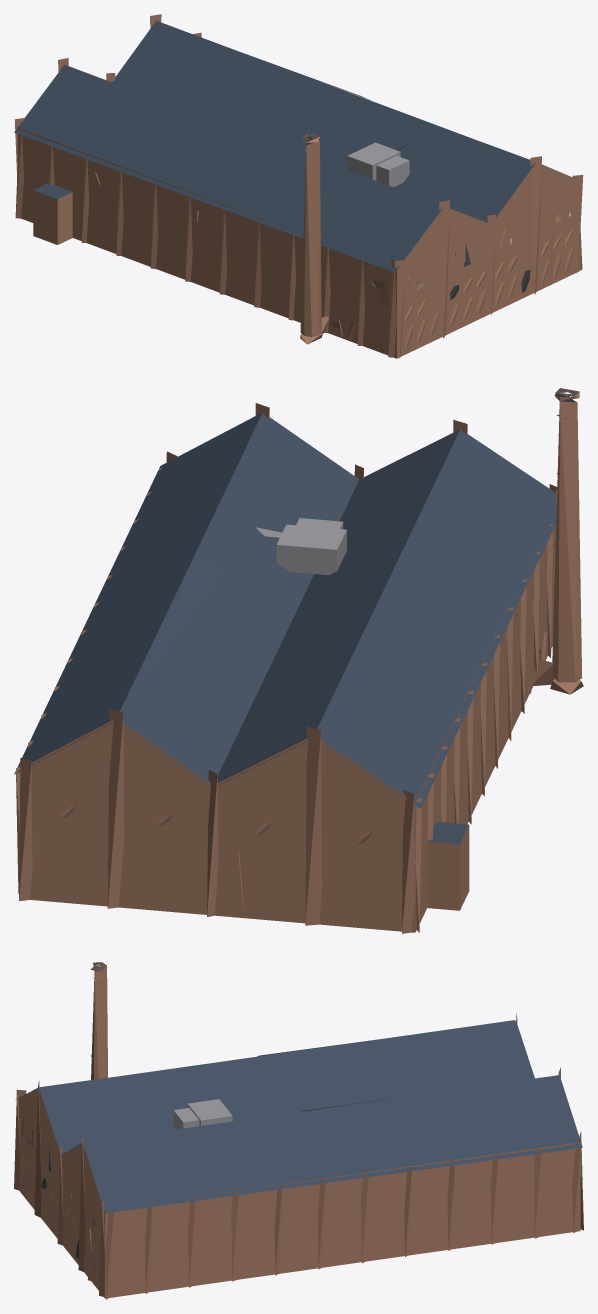
The model's file is sportfondsenbad-oost.lod2.glb.
3 renders of one model, top to bottom at view 1: azimuth 30°, elevation 25°; view 2: azimuth 150°, elevation 25°; view 3: azimuth 270°, elevation 25°, orthographic. The views are drawn at different scales.
Parts seen in each view (by area): view 1: lod2; view 2: lod2; view 3: lod2.
Boxes of the visible parts, x1=… form: lod2: x1=14, y1=14, x2=583, y2=358; lod2: x1=14, y1=388, x2=583, y2=933; lod2: x1=14, y1=962, x2=583, y2=1299.
Size of the model in its own units: 59.59 by 30.55 by 78.41.
